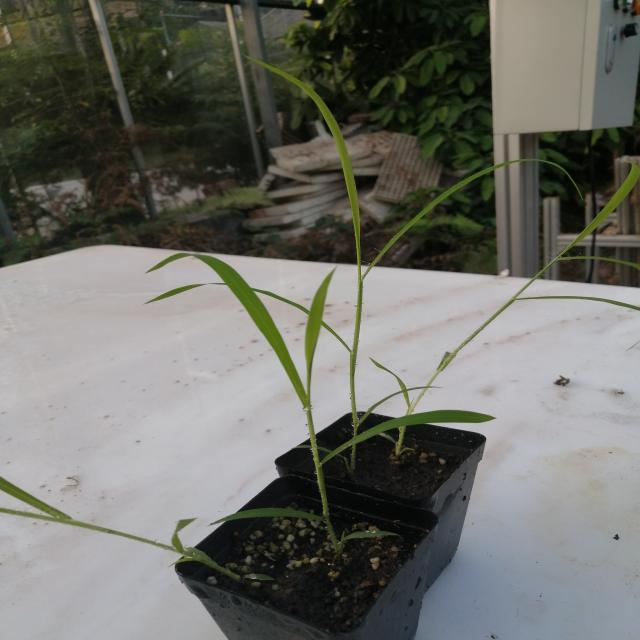crabgrass: (110, 226, 463, 492)
